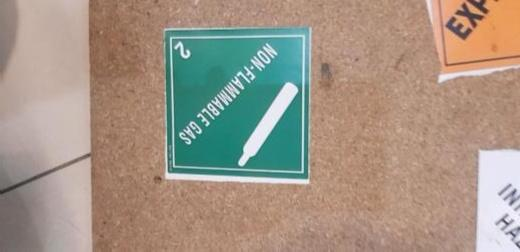non-flammable-gas: (166, 31, 309, 186)
